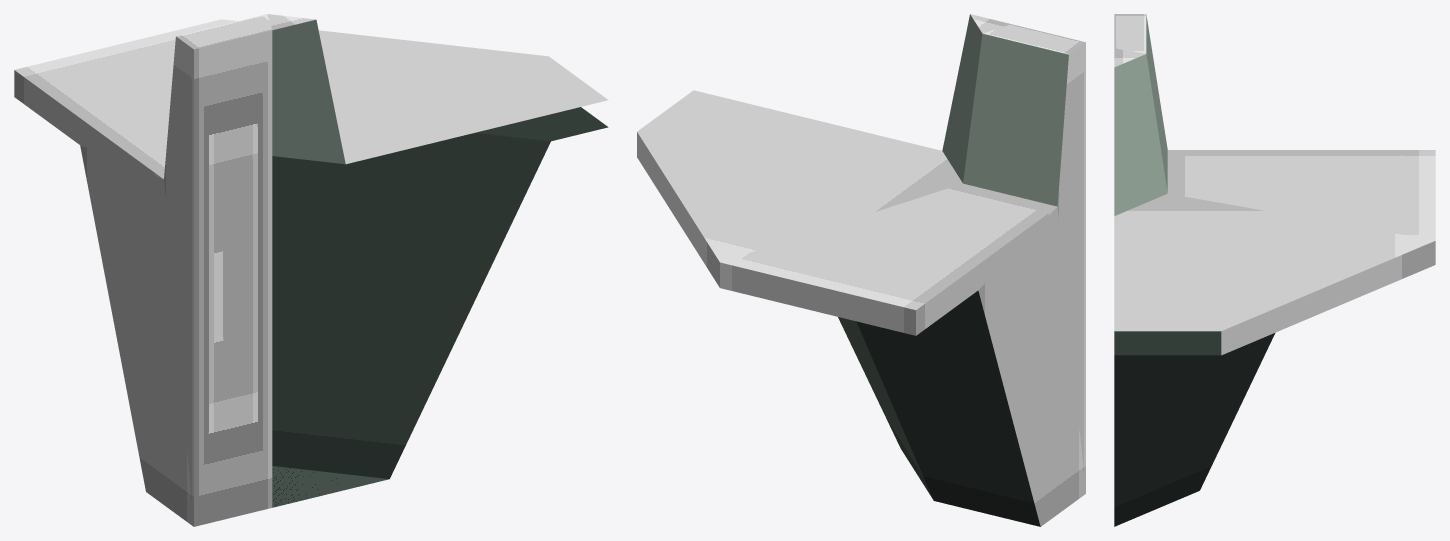
The model's file is desk_corner_outside_origin.obj.
3 views of the same model, side by side, from view 1: azimuth 30°, elevation 25°; view 2: azimuth 150°, elevation 25°; view 3: azimuth 270°, elevation 25° (orthographic). The views are drawn at different scales.
Bounding box in the file's own units: 1 × 1.1 × 0.75.
